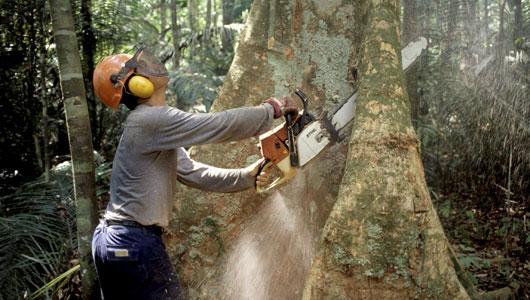person: (93, 49, 304, 300)
